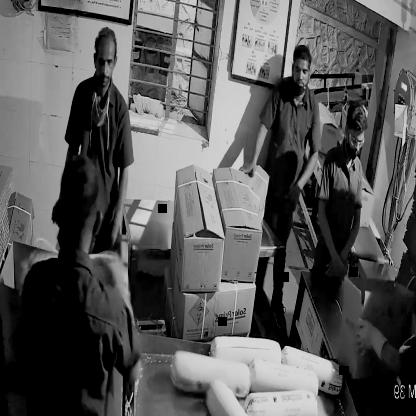goggles: (343, 127, 368, 155)
no_goggles: (91, 49, 120, 74), (286, 61, 316, 82)
